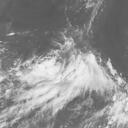cyclone: (35, 42, 99, 96)
